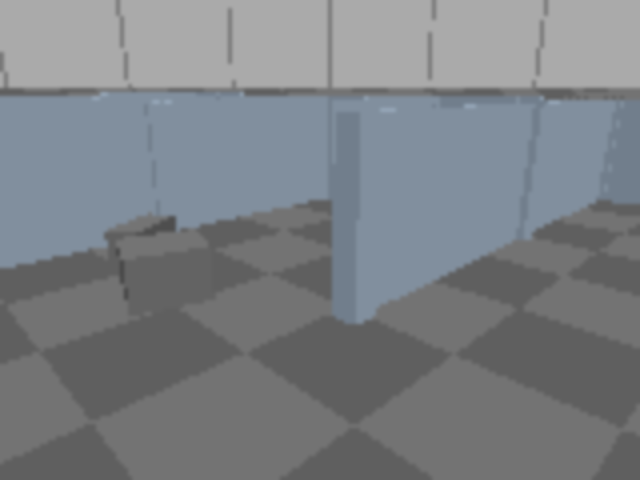obstacle: (116, 229, 215, 317)
